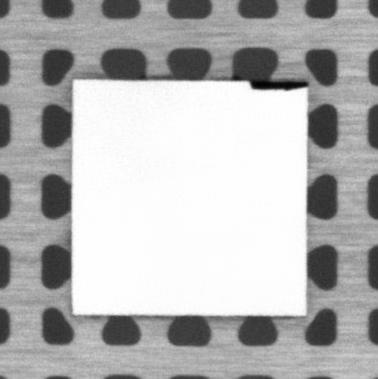DIE_BROKEN: (247, 77, 310, 92)
